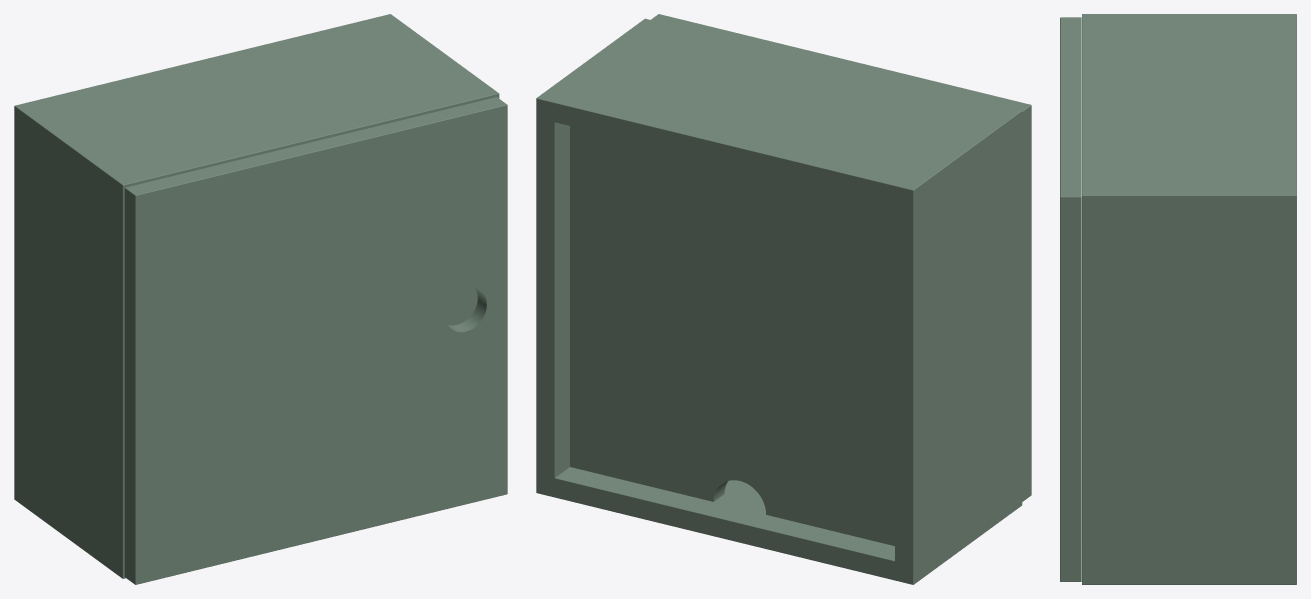
File: MODH_1X1_D_B_DER_AP_VA.glb
3 views of the same model, side by side, from view 1: azimuth 30°, elevation 25°; view 2: azimuth 150°, elevation 25°; view 3: azimuth 270°, elevation 25° (orthographic).
Bounding box in the file's own units: 360 × 360 × 198.
